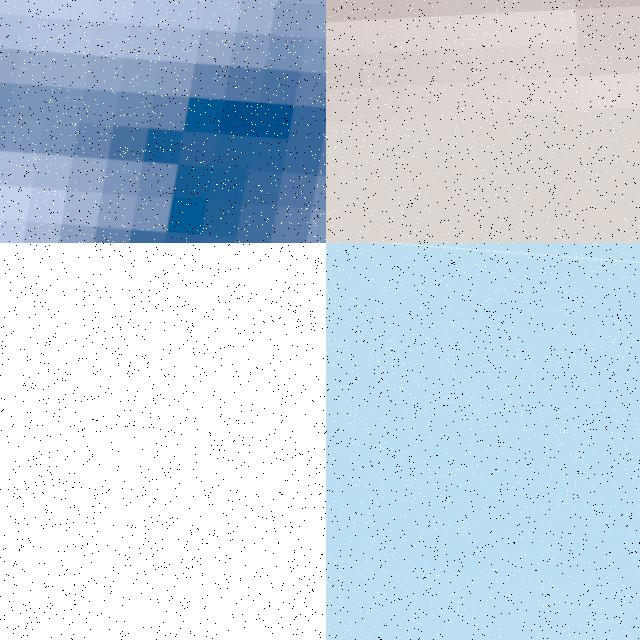0: (0, 0, 326, 243)
drone: (326, 243, 640, 640)
